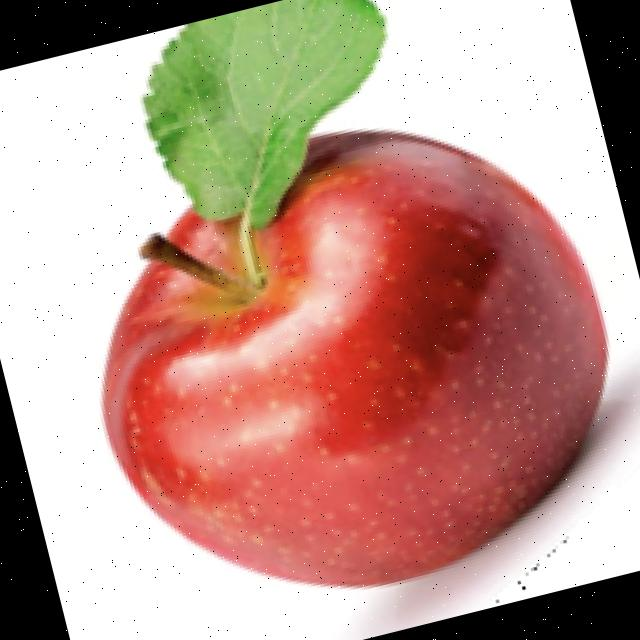apple: (94, 0, 640, 630)
